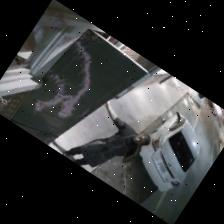person: (63, 102, 150, 167)
